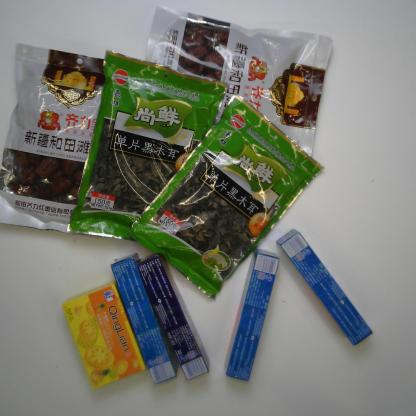Dessert: (60, 280, 147, 394)
Dried Food: (126, 94, 327, 300), (66, 48, 231, 245), (140, 5, 336, 162), (0, 42, 106, 235)
Personal Hygiene: (274, 225, 374, 347), (136, 253, 212, 386), (108, 251, 180, 388), (222, 245, 281, 385)
